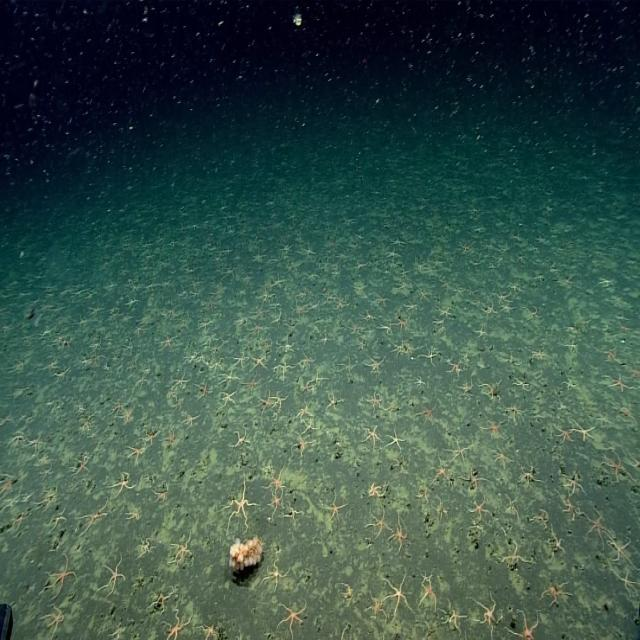brittle-stars: (227, 474, 256, 532), (383, 570, 413, 614), (46, 556, 80, 592), (602, 449, 632, 486), (276, 600, 305, 636), (162, 608, 193, 640), (472, 589, 501, 623), (509, 609, 539, 640), (102, 555, 125, 595), (541, 577, 571, 604), (171, 533, 195, 566), (79, 503, 109, 529), (584, 509, 606, 543), (442, 598, 464, 632), (42, 603, 66, 634), (388, 517, 408, 554), (608, 536, 634, 564), (323, 491, 346, 522), (110, 472, 137, 498), (608, 371, 634, 398), (265, 559, 286, 591), (418, 582, 439, 614), (367, 508, 390, 536), (617, 568, 640, 596), (556, 490, 578, 518), (562, 469, 586, 494), (461, 468, 487, 490), (368, 591, 389, 618), (479, 379, 502, 403), (466, 497, 489, 520), (35, 488, 59, 510), (264, 468, 288, 490), (572, 418, 594, 442), (292, 433, 314, 456), (481, 416, 504, 438), (363, 422, 381, 450), (386, 427, 406, 452), (432, 455, 449, 484), (447, 442, 470, 463), (126, 442, 146, 465), (266, 489, 286, 512), (416, 402, 436, 424), (445, 354, 464, 377), (555, 423, 575, 444), (180, 409, 199, 431), (494, 444, 511, 468), (140, 428, 160, 448), (173, 369, 191, 391), (326, 388, 342, 412), (368, 480, 387, 500), (274, 361, 294, 380), (231, 428, 250, 448), (338, 357, 356, 378), (75, 453, 92, 475), (272, 390, 289, 412), (421, 345, 438, 367), (200, 620, 218, 640), (366, 355, 384, 375), (27, 433, 44, 454), (0, 474, 16, 496), (139, 536, 154, 559), (195, 380, 212, 400), (299, 351, 316, 371), (295, 400, 311, 421), (367, 391, 383, 412), (392, 316, 410, 334), (520, 466, 537, 485), (244, 376, 260, 396), (301, 416, 317, 436), (234, 350, 248, 372), (159, 333, 176, 351), (530, 347, 548, 364), (458, 379, 474, 398), (347, 318, 363, 337), (508, 403, 524, 422), (220, 389, 237, 406), (495, 290, 512, 307), (251, 354, 267, 372), (292, 300, 308, 318), (260, 392, 274, 412), (202, 330, 218, 347), (514, 376, 530, 393), (373, 292, 389, 309), (119, 407, 134, 425), (350, 281, 368, 296), (386, 398, 399, 418), (438, 304, 453, 321), (385, 245, 399, 263), (481, 301, 496, 317), (321, 288, 336, 304), (128, 505, 142, 522), (40, 463, 54, 480), (210, 355, 223, 373), (282, 336, 295, 354), (259, 288, 274, 303), (420, 568, 434, 584), (251, 249, 265, 265), (247, 321, 263, 335), (164, 429, 177, 446), (564, 339, 580, 352), (272, 276, 286, 290), (301, 378, 313, 394), (414, 376, 425, 389)
